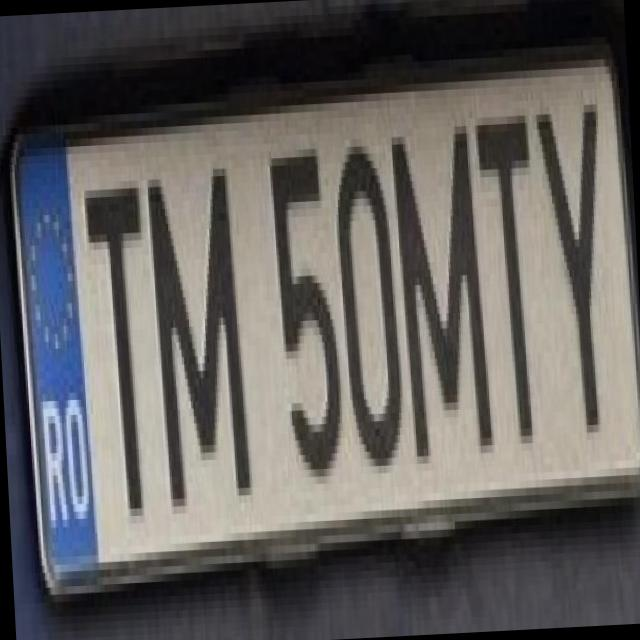0: (321, 122, 414, 468)
5: (256, 126, 350, 472)
M: (136, 138, 258, 508), (380, 96, 490, 465)
T: (71, 150, 165, 518), (462, 92, 549, 446)
Y: (528, 81, 624, 435)
